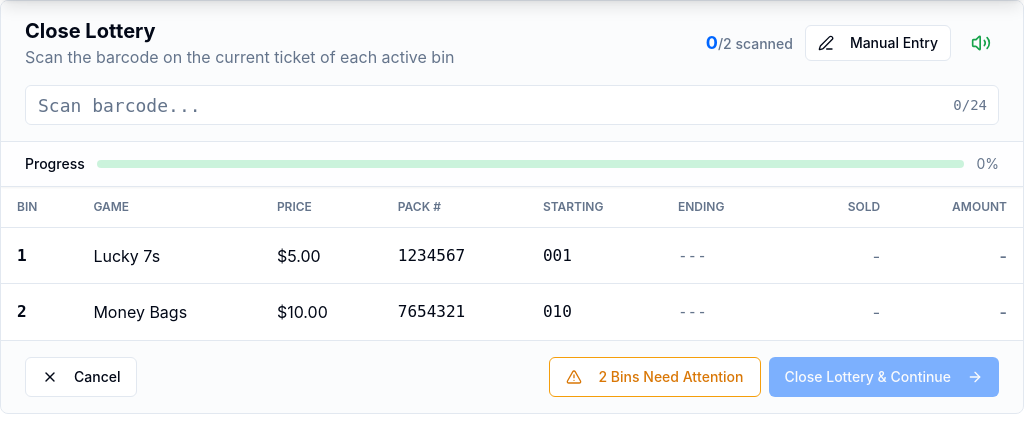
Scenario: DayCloseModeScanner Component › SCANNER-007: [P0] should only accept numeric input
# User types alphanumeric input
Type "ABC123DEF456" into the field with test id "inline-serial-input" at x=512, y=105, box [25,85,999,125]
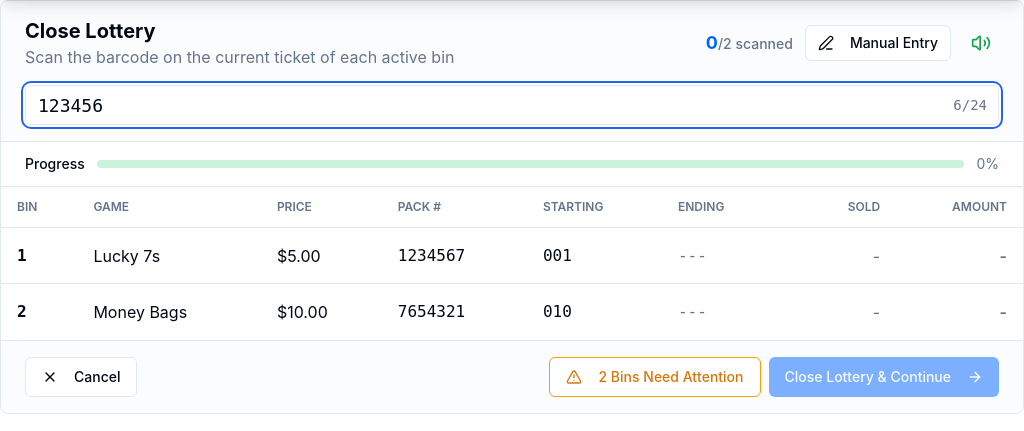
Expected: the field with test id "inline-serial-input" holds "123456", [25,85,999,125]
